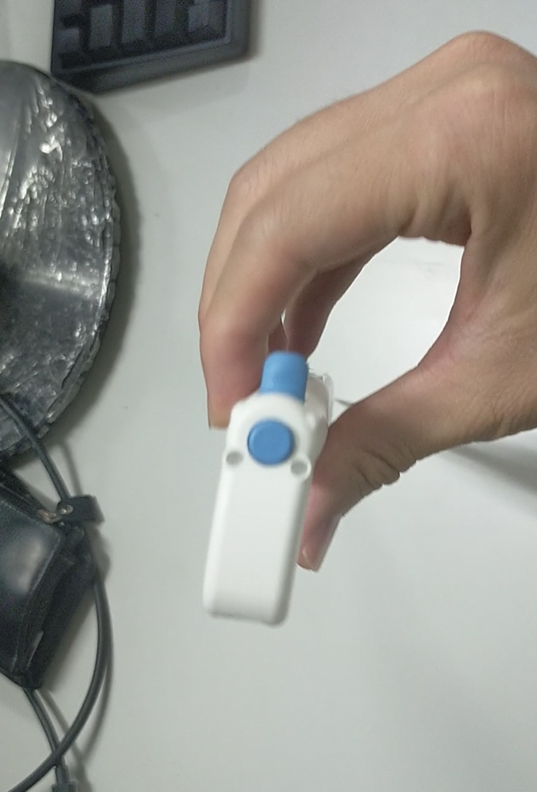pipette: (202, 344, 335, 629)
